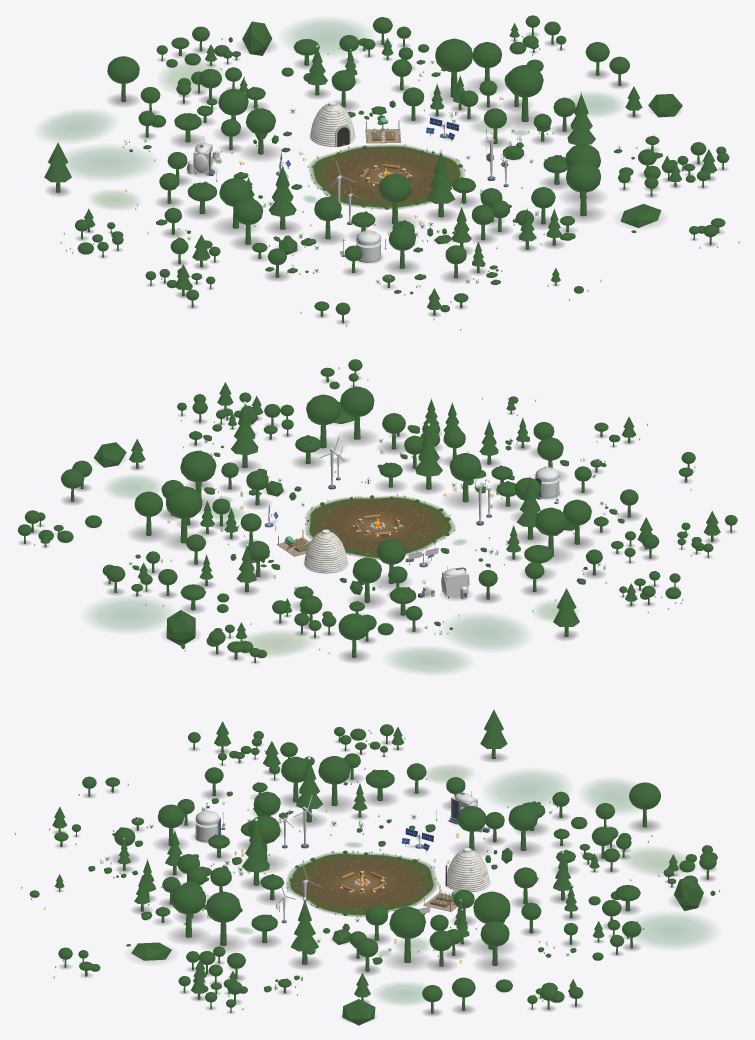
The picture shows the model from 3 angles, top to bottom: view 1: azimuth 30°, elevation 25°; view 2: azimuth 150°, elevation 25°; view 3: azimuth 270°, elevation 25°; orthographic projection. The views are drawn at different scales.
Size of what is drawn, in the model's own units: 109 by 12.9 by 114.
87 materials, 30 textured.
